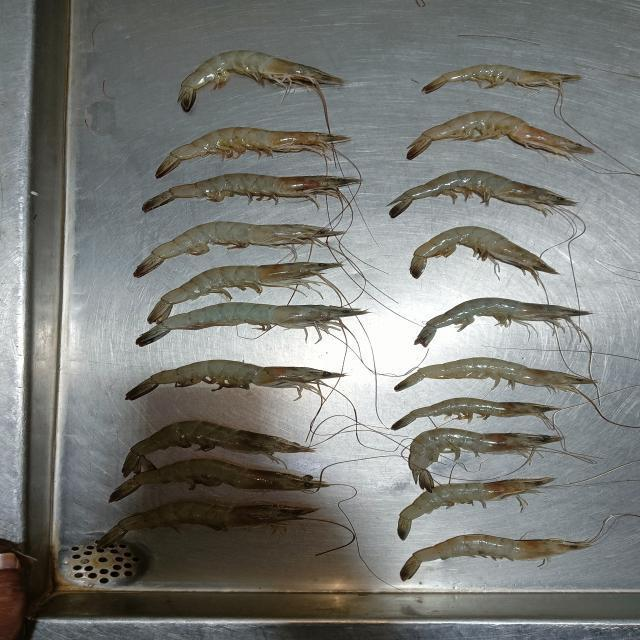shrimp: (137, 221, 341, 276), (122, 420, 313, 474), (179, 50, 344, 111), (108, 459, 326, 504), (156, 127, 348, 177), (398, 478, 551, 539), (407, 428, 562, 488), (104, 500, 303, 546), (139, 305, 364, 344), (406, 111, 592, 158), (155, 263, 337, 311), (390, 170, 575, 216), (401, 535, 592, 579), (142, 173, 359, 211), (415, 298, 590, 345), (128, 361, 344, 399), (410, 226, 555, 278), (394, 358, 594, 391), (392, 398, 561, 429), (423, 65, 581, 92)
